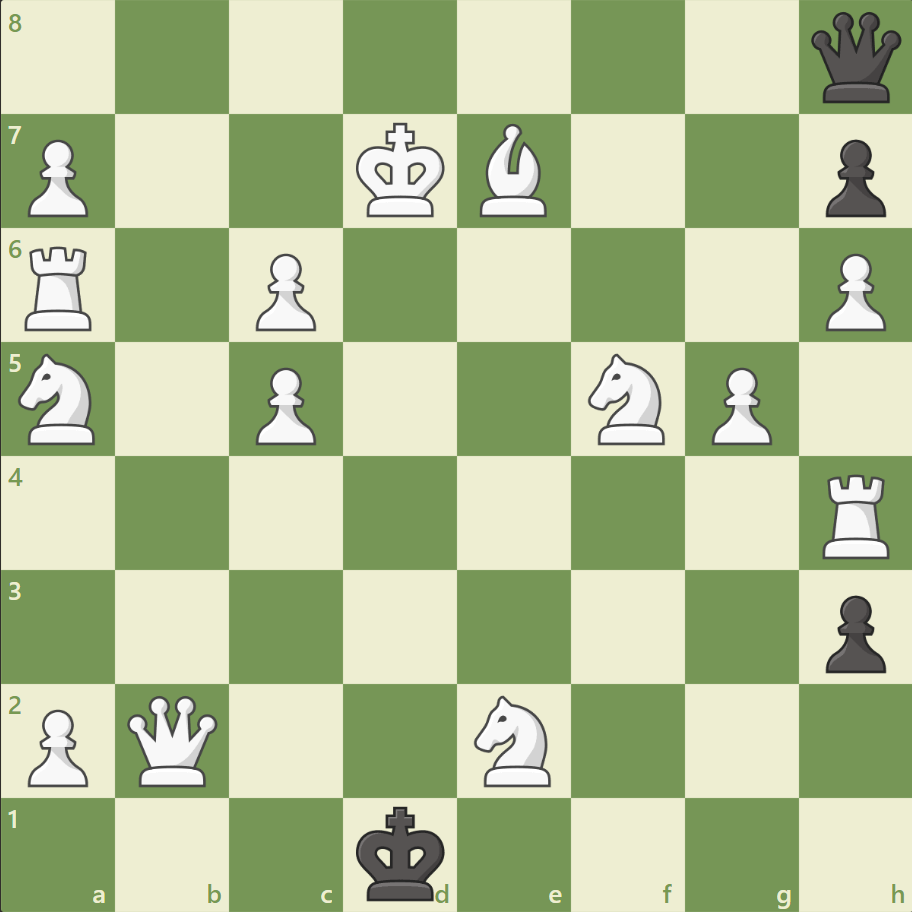B: (471, 120, 555, 222)
K: (351, 117, 451, 225)
N: (465, 688, 562, 791), (11, 348, 108, 450), (579, 348, 676, 450)
P: (20, 132, 95, 223), (247, 246, 322, 337), (247, 359, 322, 450), (701, 359, 776, 450), (20, 700, 95, 791), (815, 246, 889, 337)
Q: (124, 690, 223, 789)
R: (19, 239, 102, 336), (814, 466, 897, 563)
k: (351, 798, 451, 906)
p: (815, 132, 889, 223), (815, 586, 889, 677)
q: (805, 9, 904, 108)
